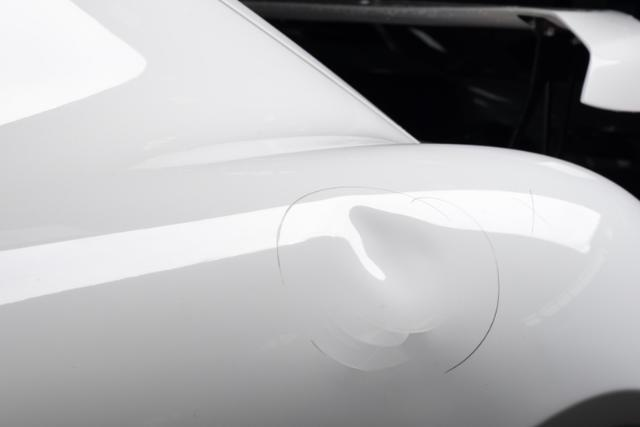Fender: (264, 160, 516, 387)
